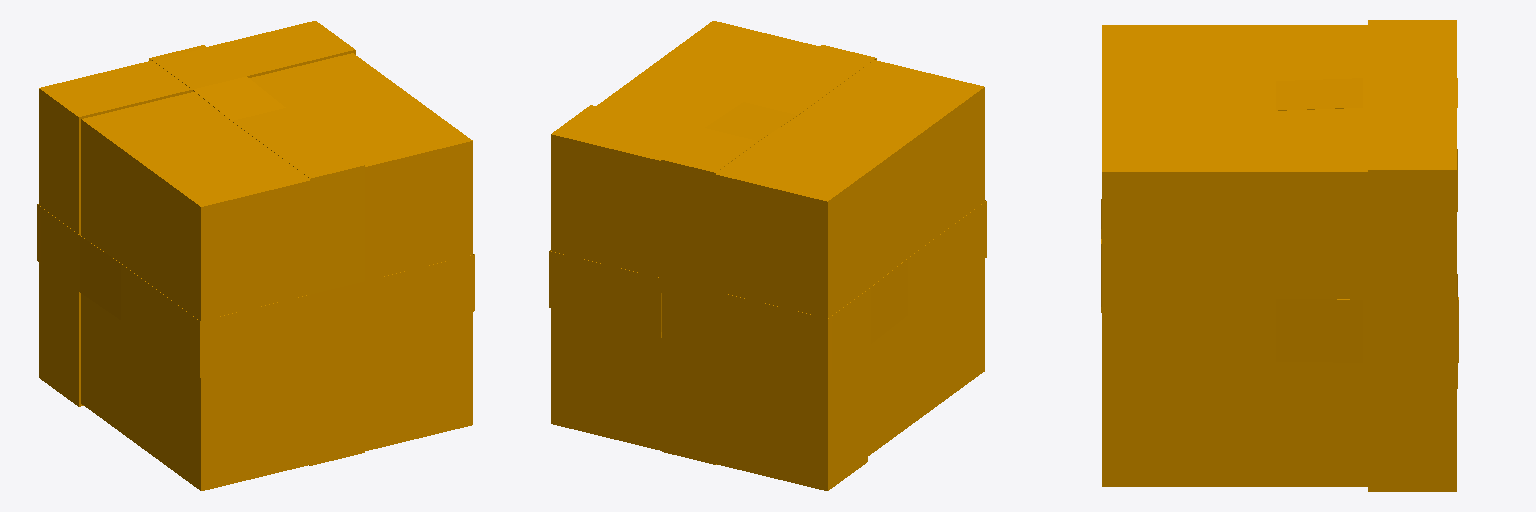
URDF robot description (gift_box.urdf):
<?xml version="1.0" ?>
<robot name="gift_box.urdf">
  <link name="baseLink">
    <inertial>
      <origin rpy="0 0 0" xyz="0 0 0"/>
       <mass value="0.1"/>
       <inertia ixx="0" ixy="0" ixz="0" iyy="0" iyz="0" izz="0"/>
    </inertial>
    <visual>
      <origin rpy="0 0 0" xyz="0 0 0"/>
      <geometry>
        <mesh filename="gift_box.obj" scale="0.05 0.05 0.05"/>
      </geometry>
      <!-- <material name="white">
       <color rgba="1 1 1 1"/>
     </material> -->
    </visual>
    <collision>
      <origin rpy="0 0 0" xyz="0 0 0"/>
      <geometry>
        <mesh filename="gift_box.obj" scale="0.05 0.05 0.05"/>
        <!-- You could also specify the collision (for the scissors) with a "box" tag: -->
        <!-- <box size=".06 .06 .06"/> -->
      </geometry>
    </collision>
  </link>
</robot>

--- What the picture shows (computed from the rendered views, not written in the file) ---
Views: 3 orthographic renders of the robot side by side, from view 1: azimuth 30°, elevation 25°; view 2: azimuth 150°, elevation 25°; view 3: azimuth 270°, elevation 25°.
Model gift_box.urdf with 1 links and 0 joints (none), rooted at baseLink, posed every joint at zero.
Links seen in each view (by area): view 1: baseLink; view 2: baseLink; view 3: baseLink.
Link boxes in pixels (box(x1,y1,x2,y2)): baseLink: box(37, 21, 474, 490); baseLink: box(549, 21, 986, 490); baseLink: box(1101, 20, 1458, 491).
Bounding box of the posed robot: 0.1026 × 0.1026 × 0.1029 m (x, y, z).
1 mesh visuals loaded from 1 distinct referenced files (1 OBJ).